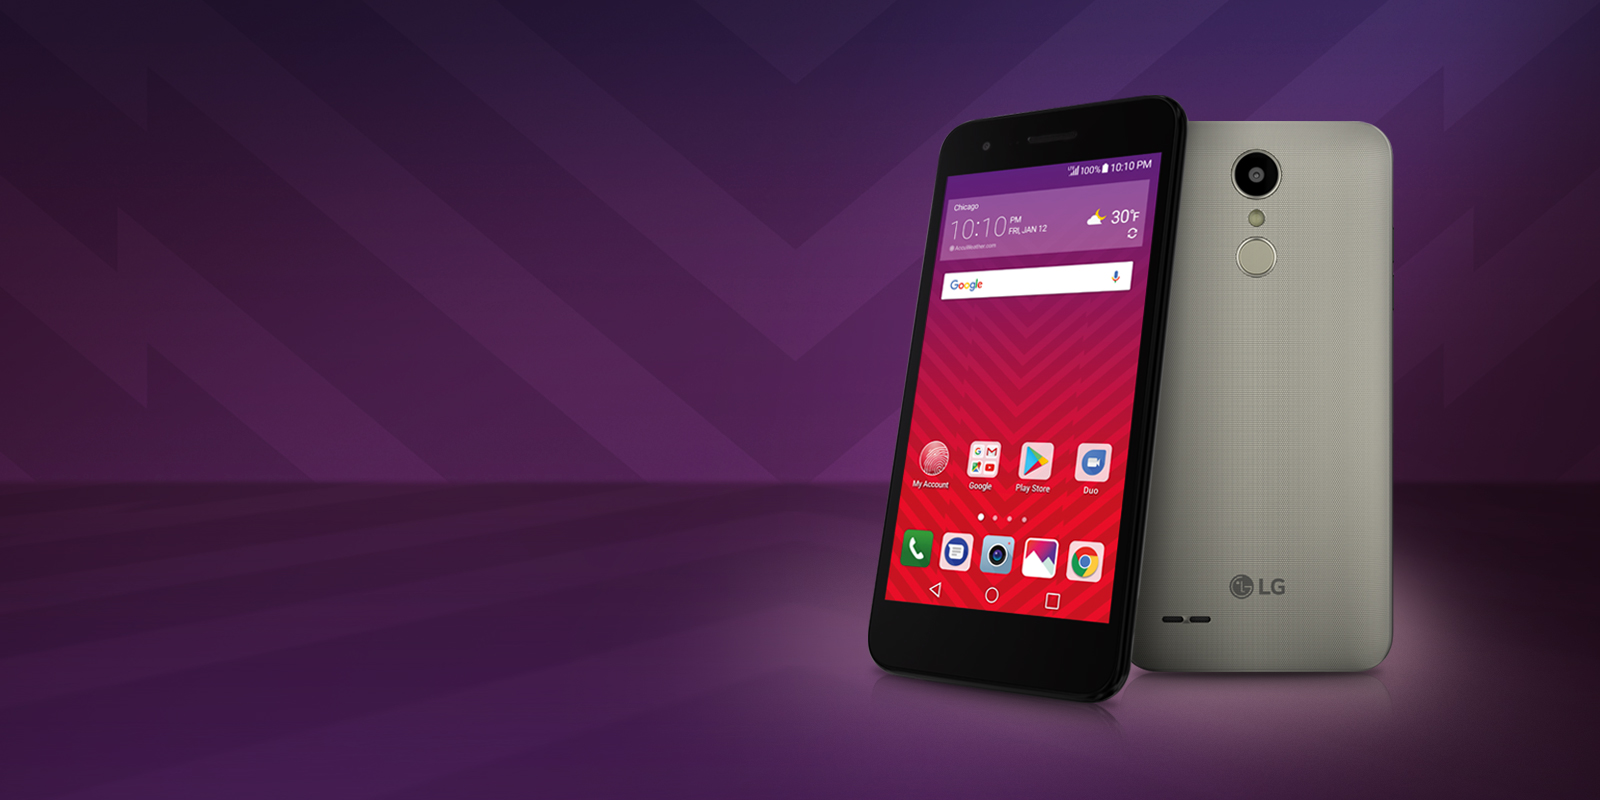mobile: (871, 94, 1489, 744)
